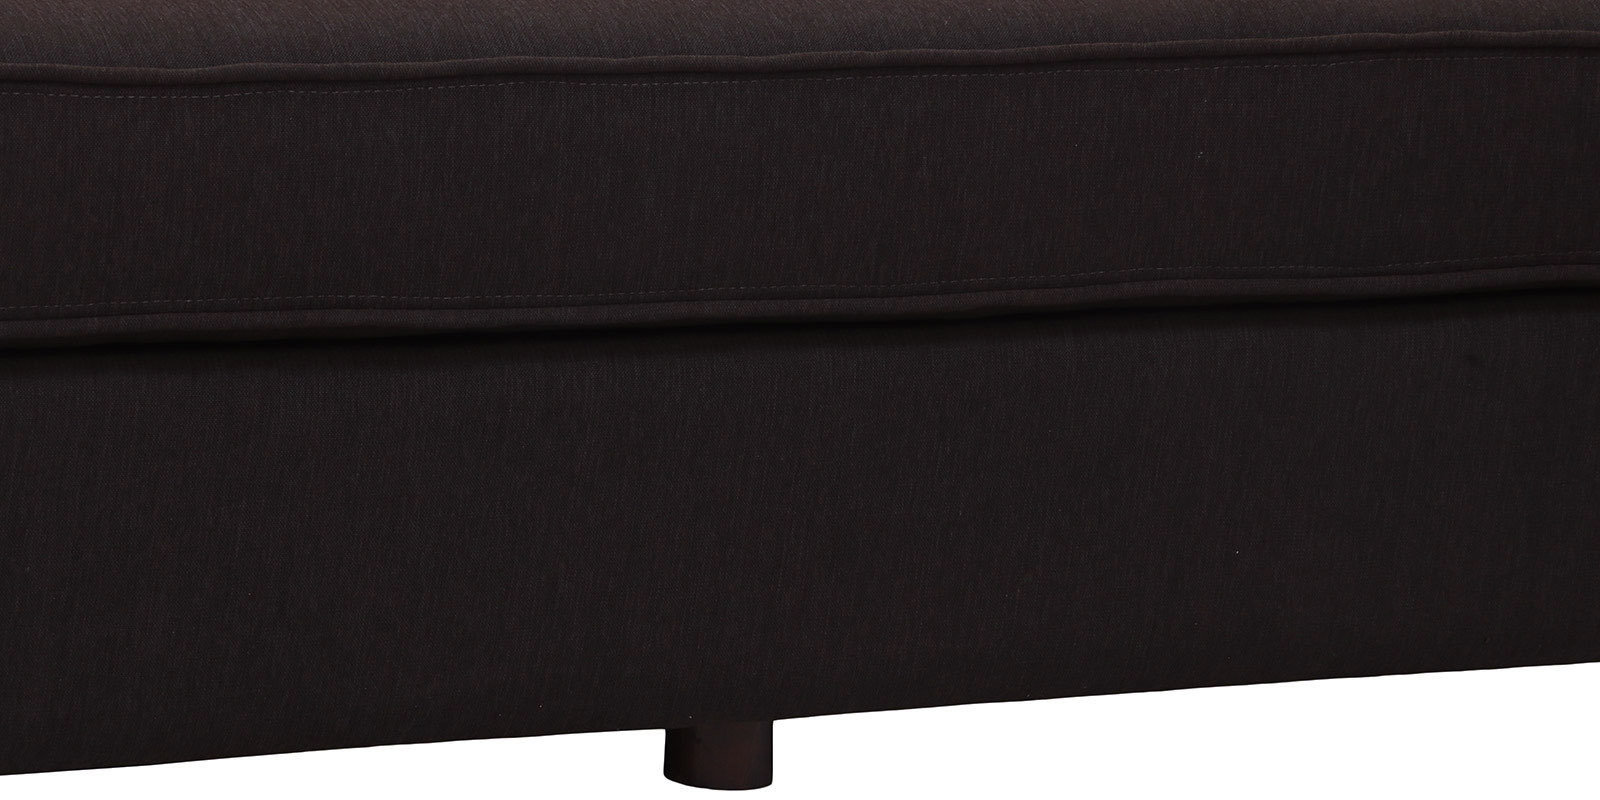Mamore Three Seater Sofa in Chestnut Brown Color by CasaCraft: (1, 5, 1600, 789)
